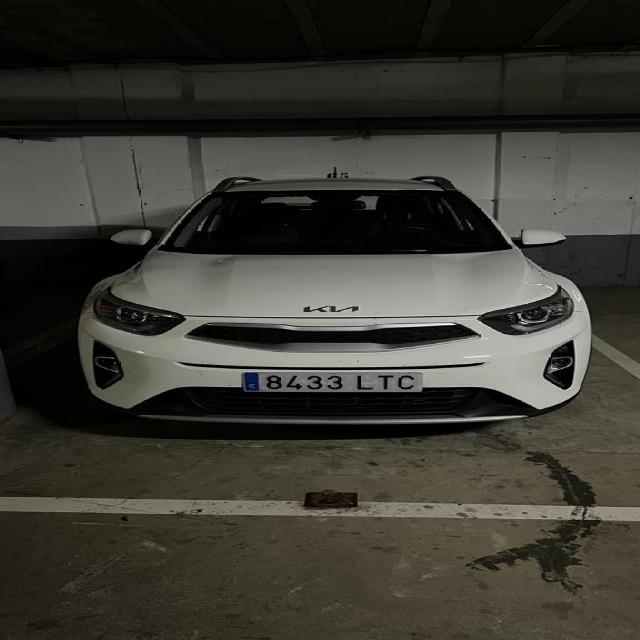License-Plate: (242, 371, 424, 394)
